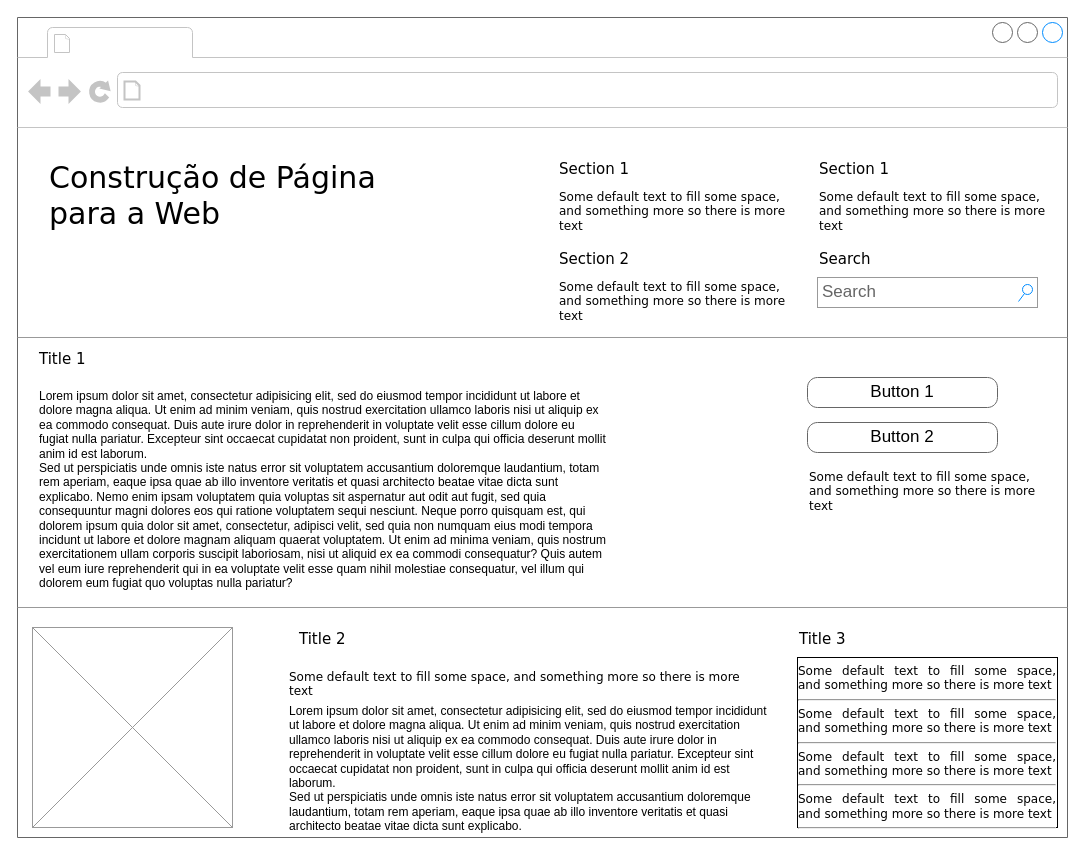
Image size: 1085x855. Some labels were removed from this diagram. Each missing label, with the centre of its shape:
"https://www.default.com" goes at point (272, 90).
"Page 1" goes at point (132, 42).
